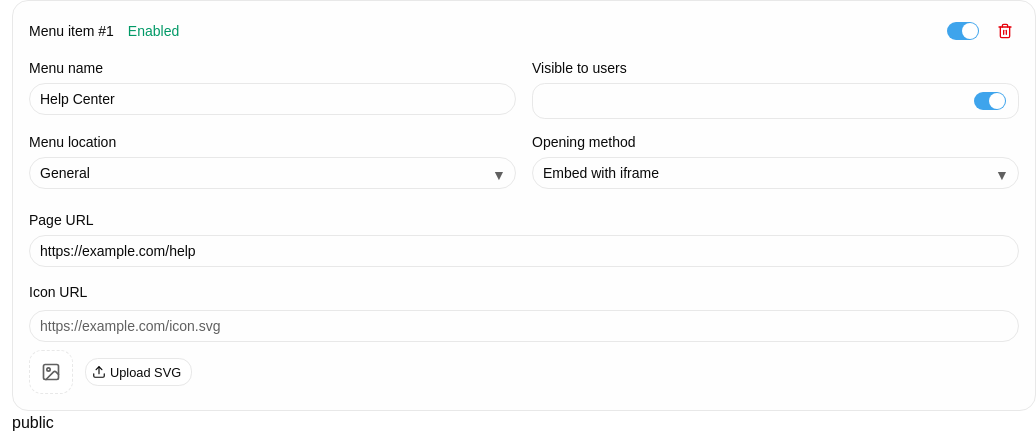
Test: custom menu page visibility › switches from user-visible to administrator-only and hides menu location
Expected: the text "Menu location" is shown, x1=29 y1=134 x2=116 y2=150
What coordinates should you click on to do the following:
click the switch named "Visible to users"
I would click on:
 (990, 101)
Its box is x1=974 y1=92 x2=1006 y2=110.
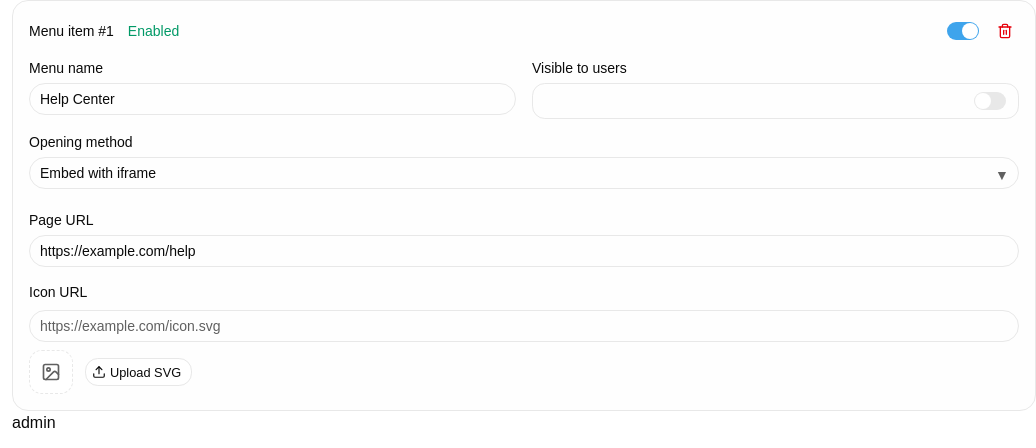
Result: the text with test id "visibility" reads "admin" at x1=12 y1=414 x2=56 y2=431
Result: the text "Menu location" is gone
